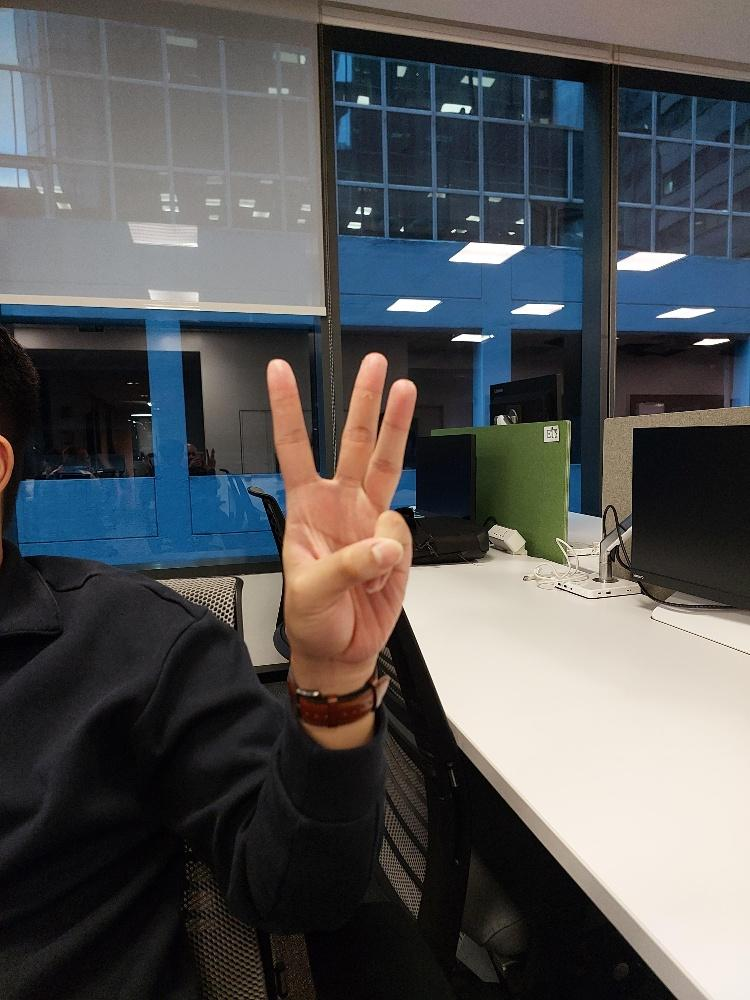w: (265, 350, 416, 647)
